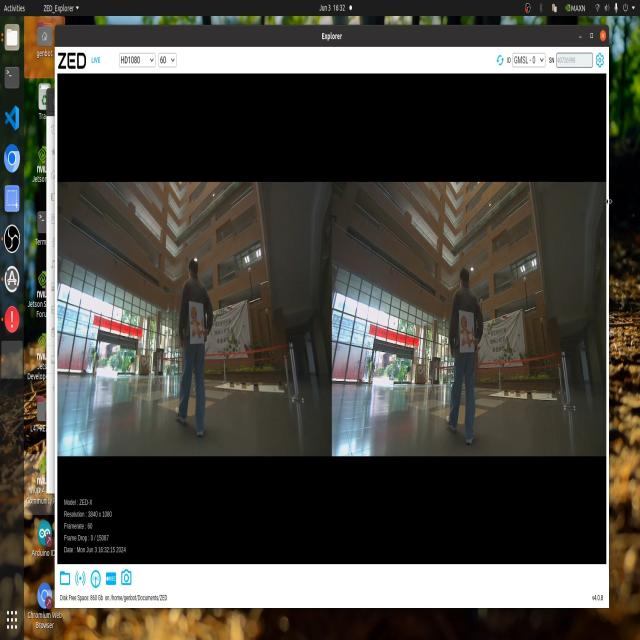red: (188, 302, 207, 350), (457, 309, 479, 350)
